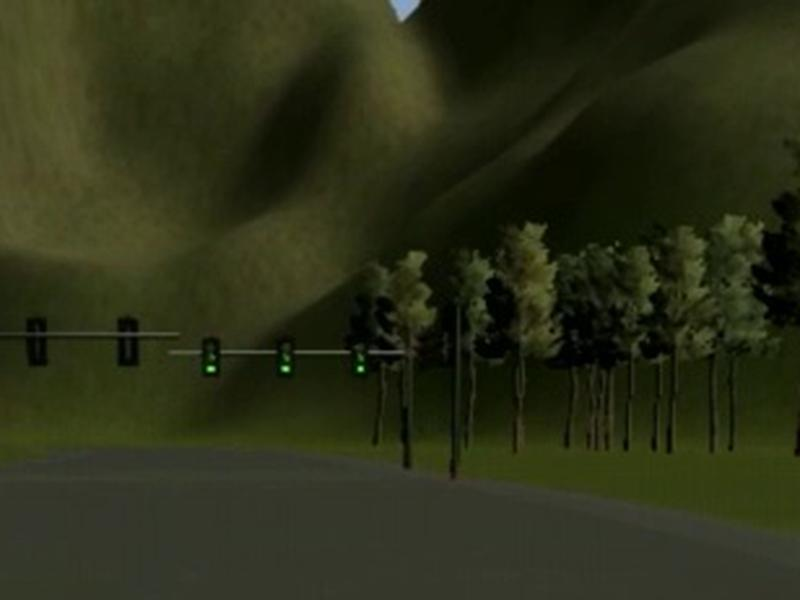Green: (275, 336, 296, 378), (201, 337, 219, 379), (350, 339, 369, 378)
